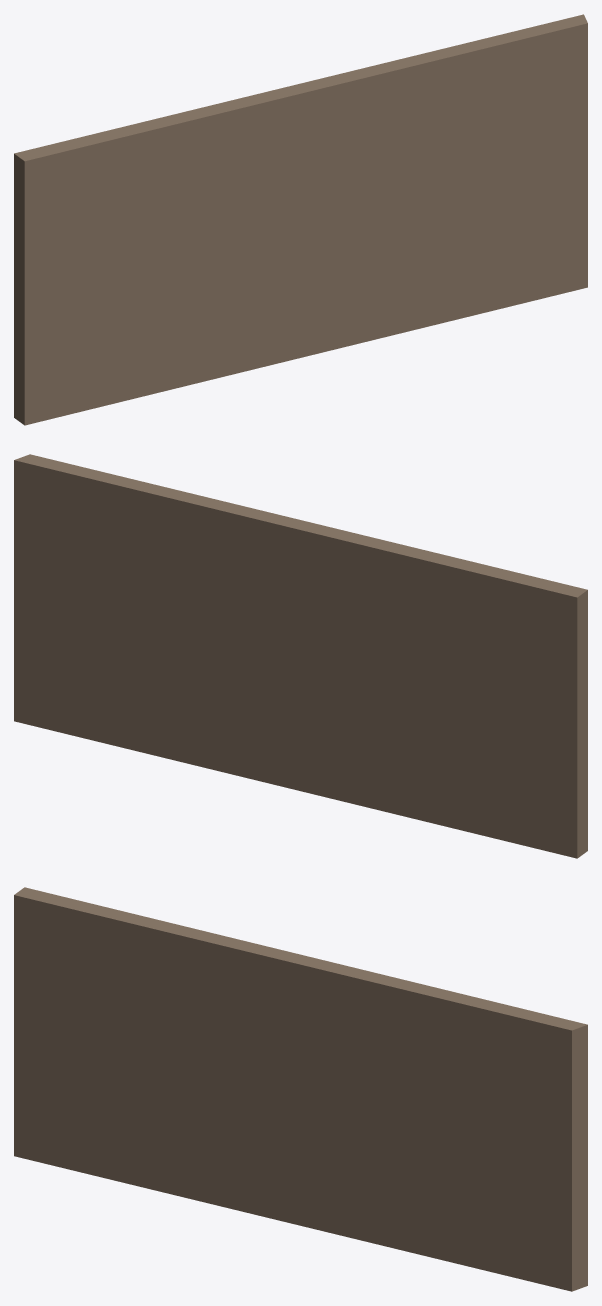
3 renders of one model, top to bottom at view 1: azimuth 30°, elevation 25°; view 2: azimuth 150°, elevation 25°; view 3: azimuth 330°, elevation 25°, orthographic.
Visible parts, largest first — view 1: Cube.007; view 2: Cube.007; view 3: Cube.007.
Part boxes in pixels (<box>): Cube.007: <box>14,14,587,425</box>; Cube.007: <box>14,454,587,858</box>; Cube.007: <box>14,887,587,1291</box>.
Bounding box in the file's own units: 2.9 × 1.28 × 0.0951.
